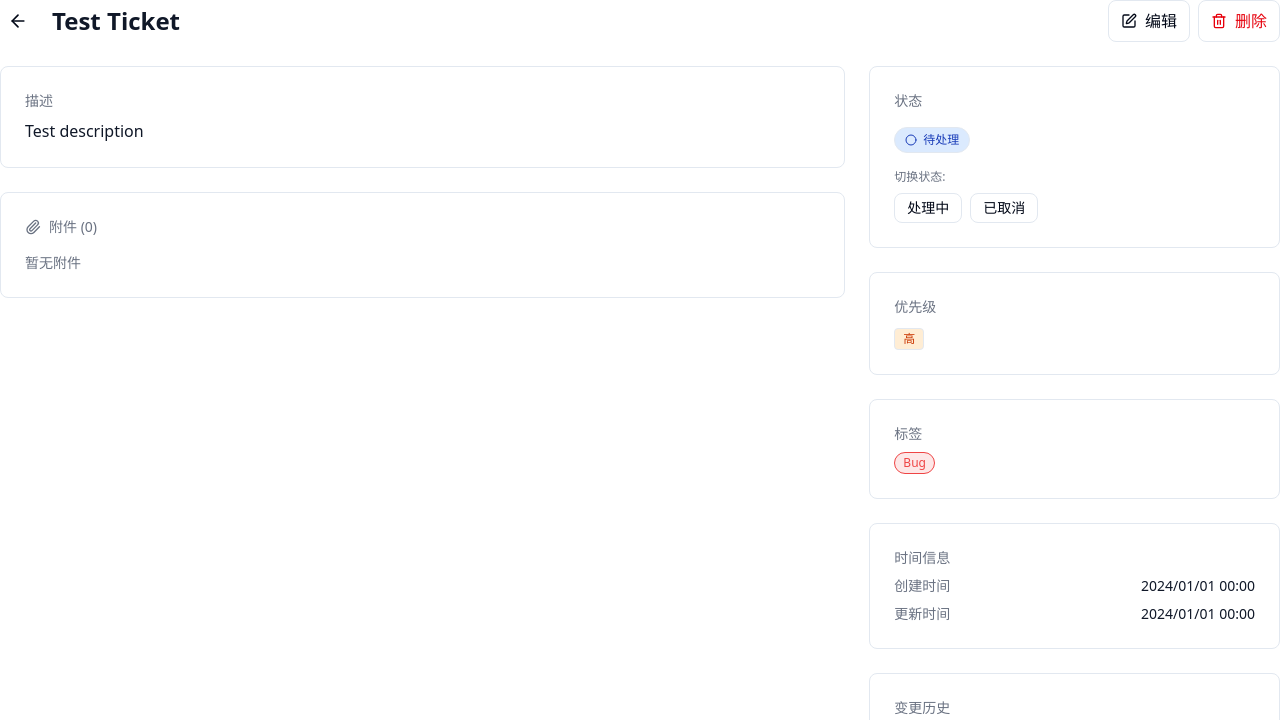
it: TicketDetailPage › shows delete confirmation dialog when delete button clicked
The width and height of the screenshot is (1280, 720).
Click the button "删除" at (1239, 21), box [1198,0,1279,42]
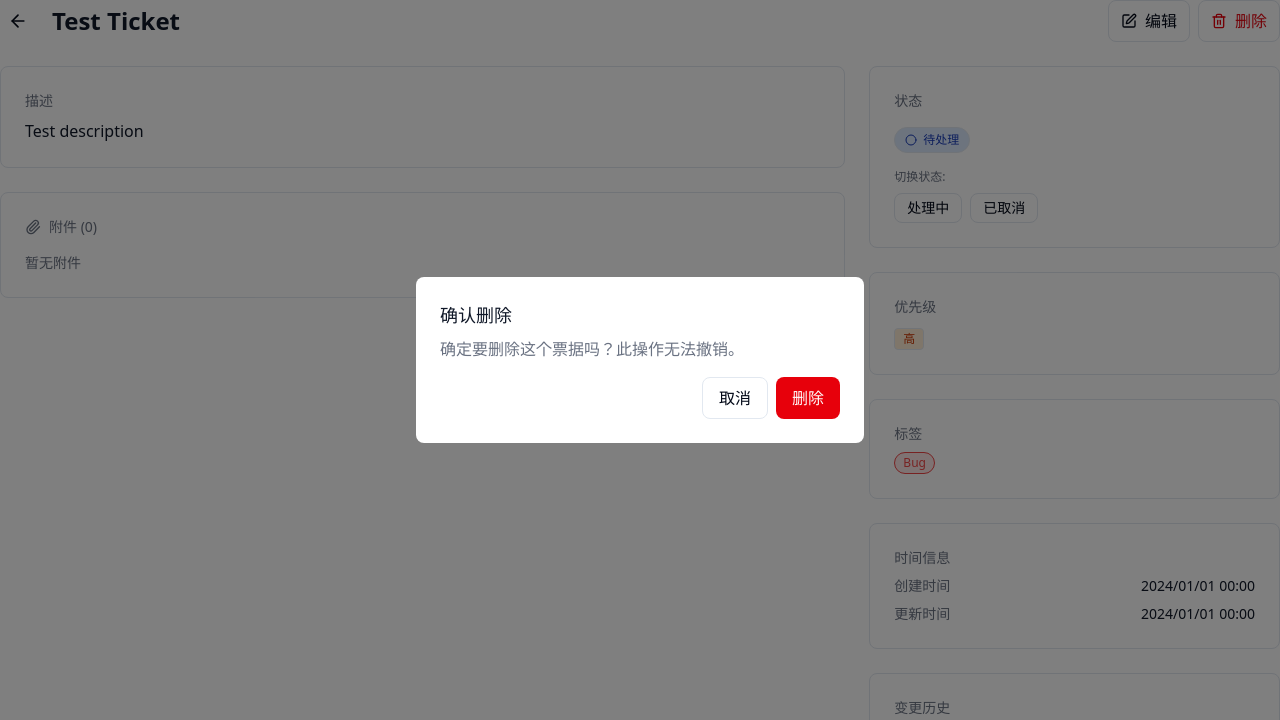
Expected: the heading "确认删除" is shown, [440,303,512,327]
Expected: the text "确定要删除这个票据吗？此操作无法撤销。" is shown, [440,338,744,360]
